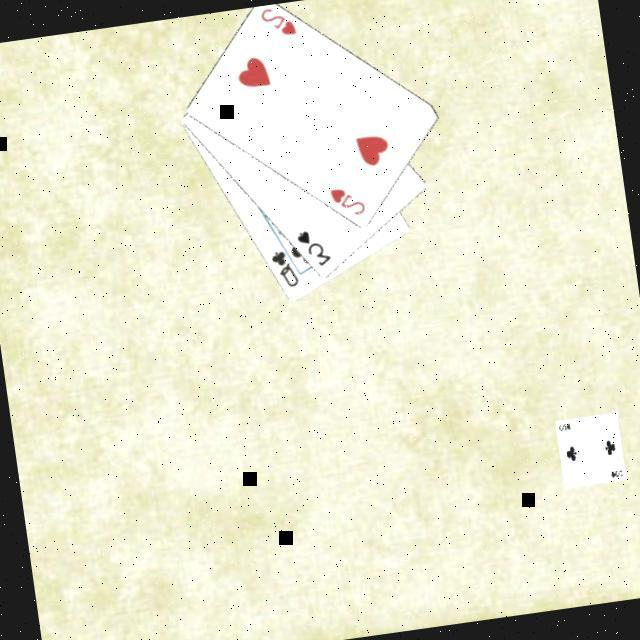2H: (258, 2, 303, 43), (328, 182, 372, 223)
3S: (294, 225, 337, 274)
QC: (269, 246, 305, 294)
